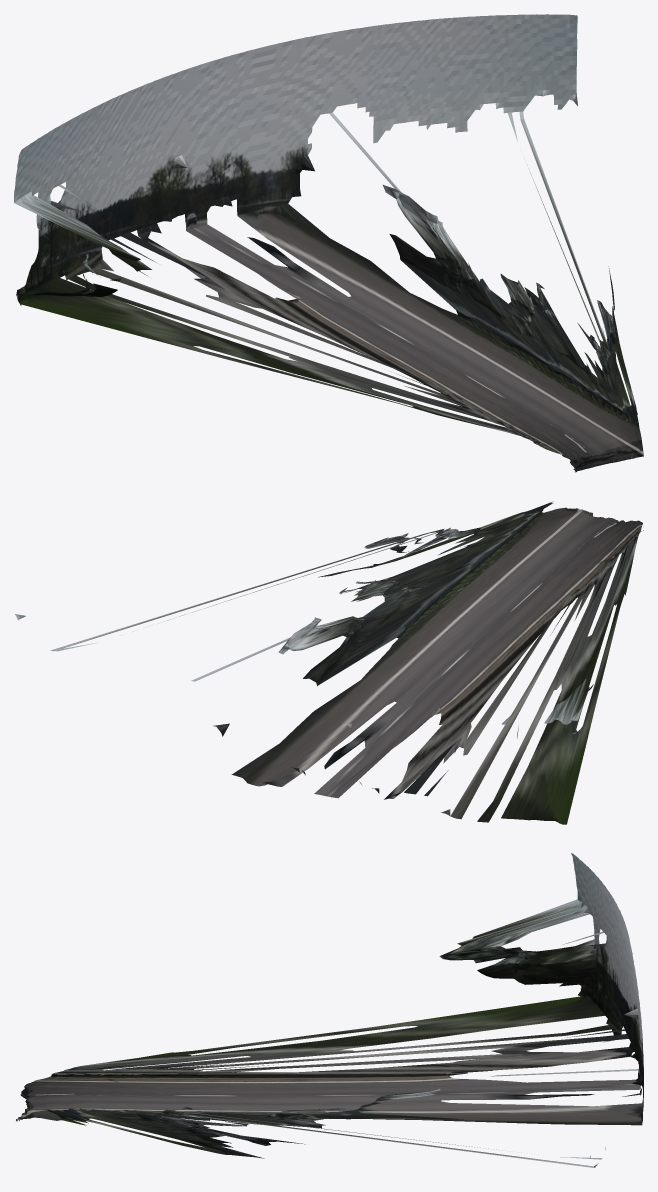
3 views of the same model, one above another, from view 1: azimuth 30°, elevation 25°; view 2: azimuth 150°, elevation 25°; view 3: azimuth 270°, elevation 25° (orthographic). The views are drawn at different scales.
Parts seen in each view (by area): view 1: defaultobject; view 2: defaultobject; view 3: defaultobject.
Boxes of the visible parts, box(x1,y1,x2,y2) form: defaultobject: box(14, 14, 643, 472); defaultobject: box(15, 501, 643, 824); defaultobject: box(16, 853, 643, 1167).
Bounding box in the file's own units: 41 × 12.12 × 44.73.
Materials: 1 (1 with a texture image).
